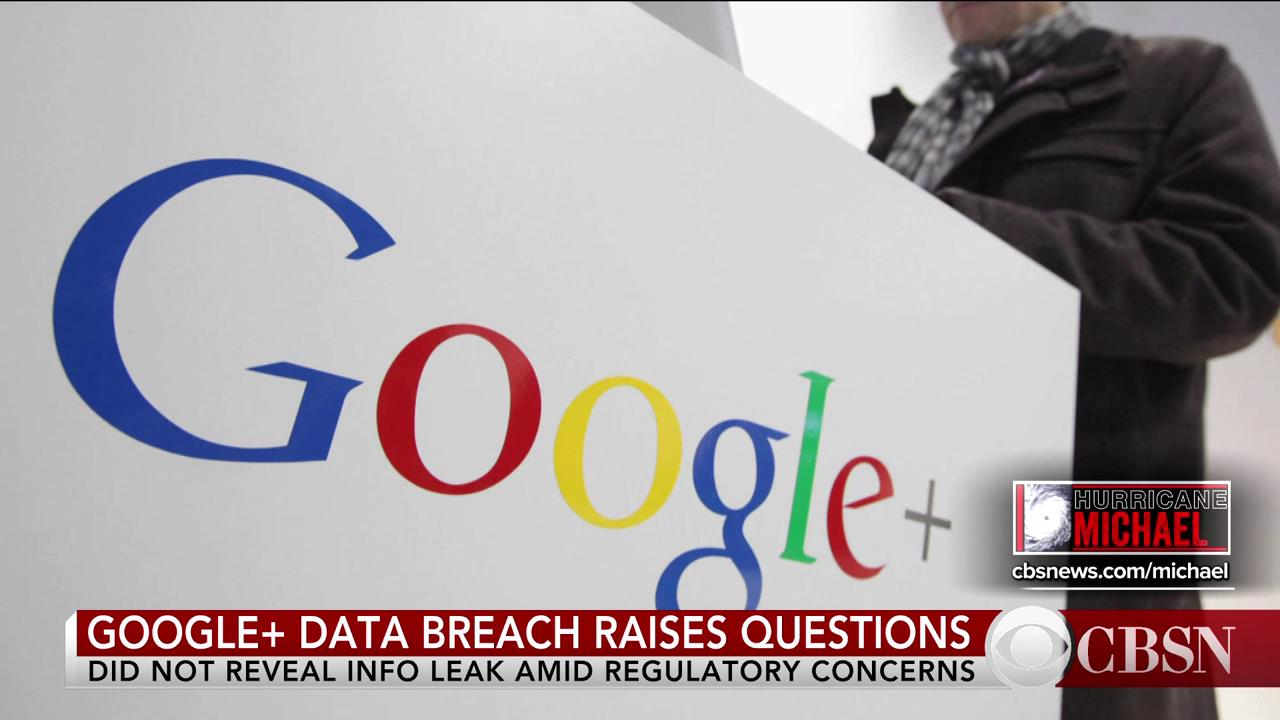CBSN: (1075, 625, 1239, 677)
DID NOT REVEAL INFO LEAK AMID REGULATORY CONCERNS: (85, 655, 976, 688)
GOOGLE+ DATA BREACH RAISES QUESTIONS: (86, 611, 972, 649)
Google+: (42, 158, 959, 611)
HURRICANE: (1072, 486, 1228, 508)
MICHAEL: (1072, 509, 1210, 548)
cbsnews.com/michael: (1011, 561, 1229, 583)
